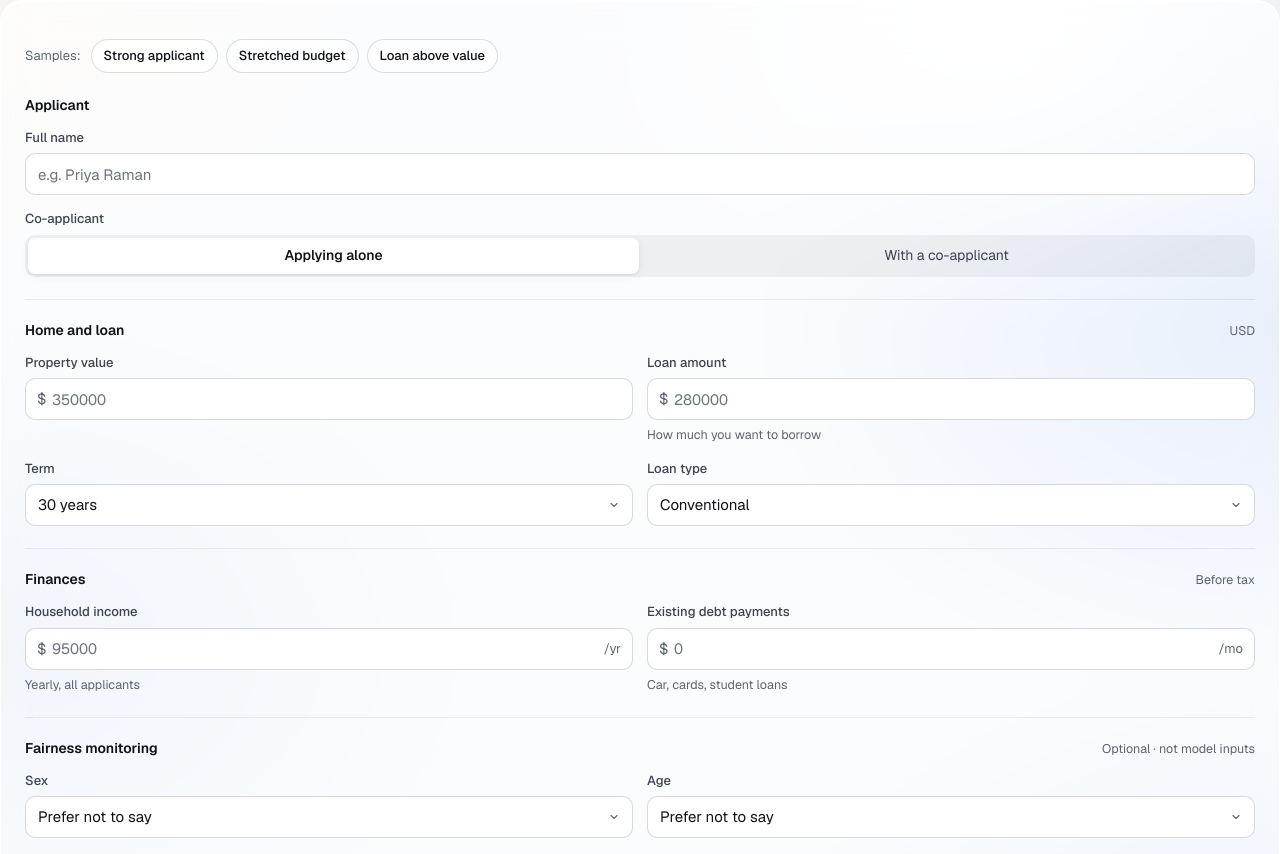
it: LoanForm › rejects a loan above the $10M cap
Click the button "Strong applicant".
click(154, 56)  # box [91,39,218,72]
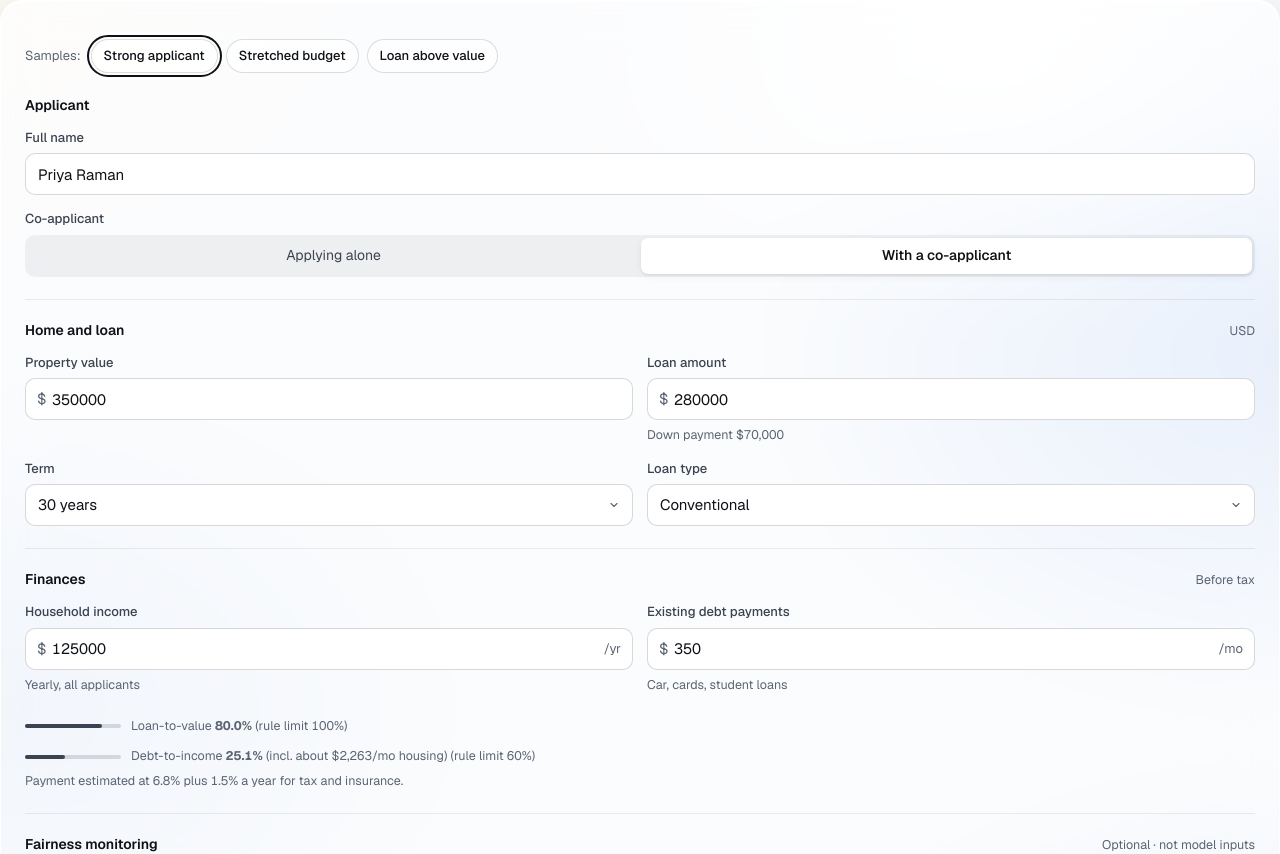
Type "20000000" into the number field labelled "Loan amount".
click(951, 399); type("20000000")  # box [647,378,1255,420]
(page scrolled)
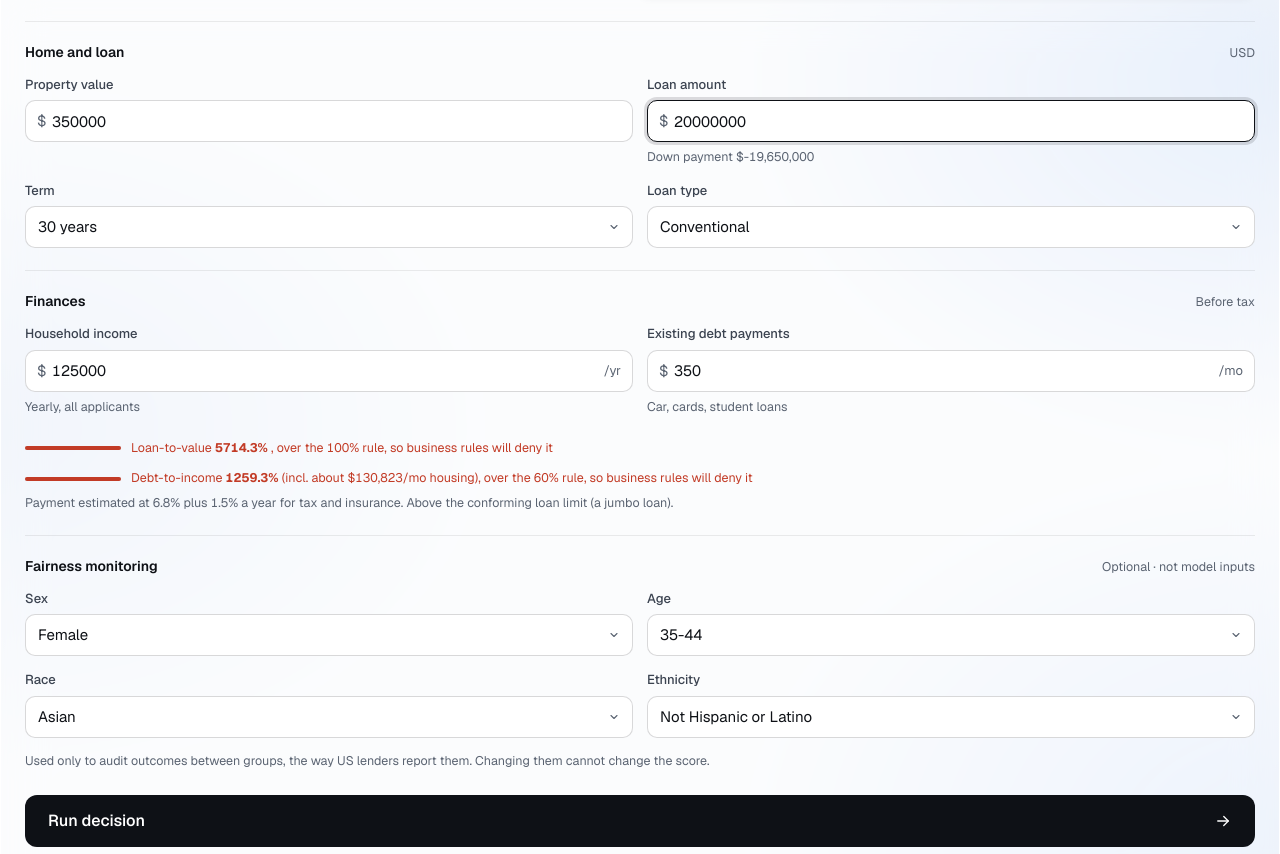
Click the button "Run decision".
click(97, 820)  # box [25,794,1255,846]
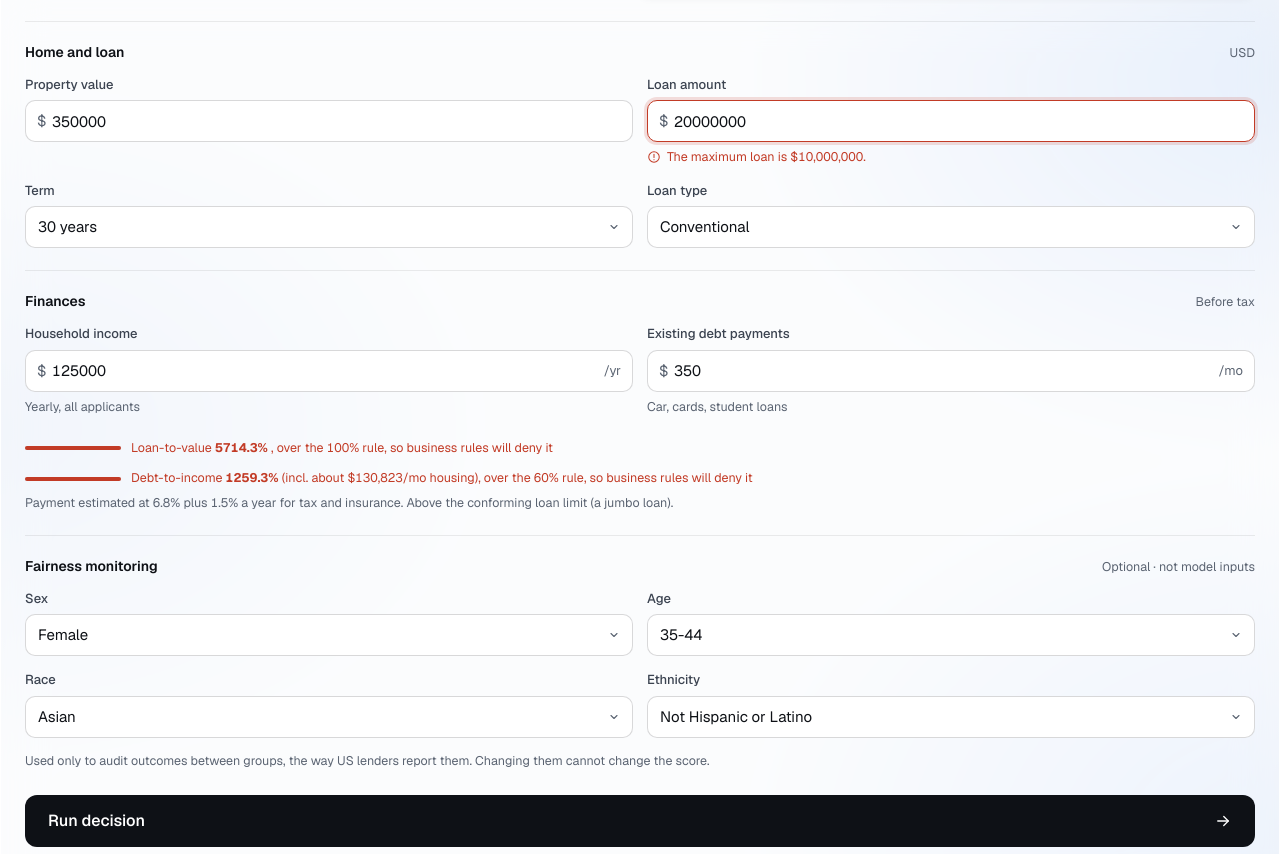
Expected: the text "The maximum loan is $10,000,000." is shown, [647,148,866,165]
